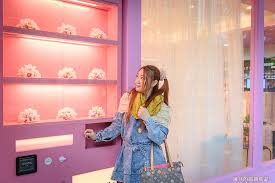people: (110, 68, 172, 183)
